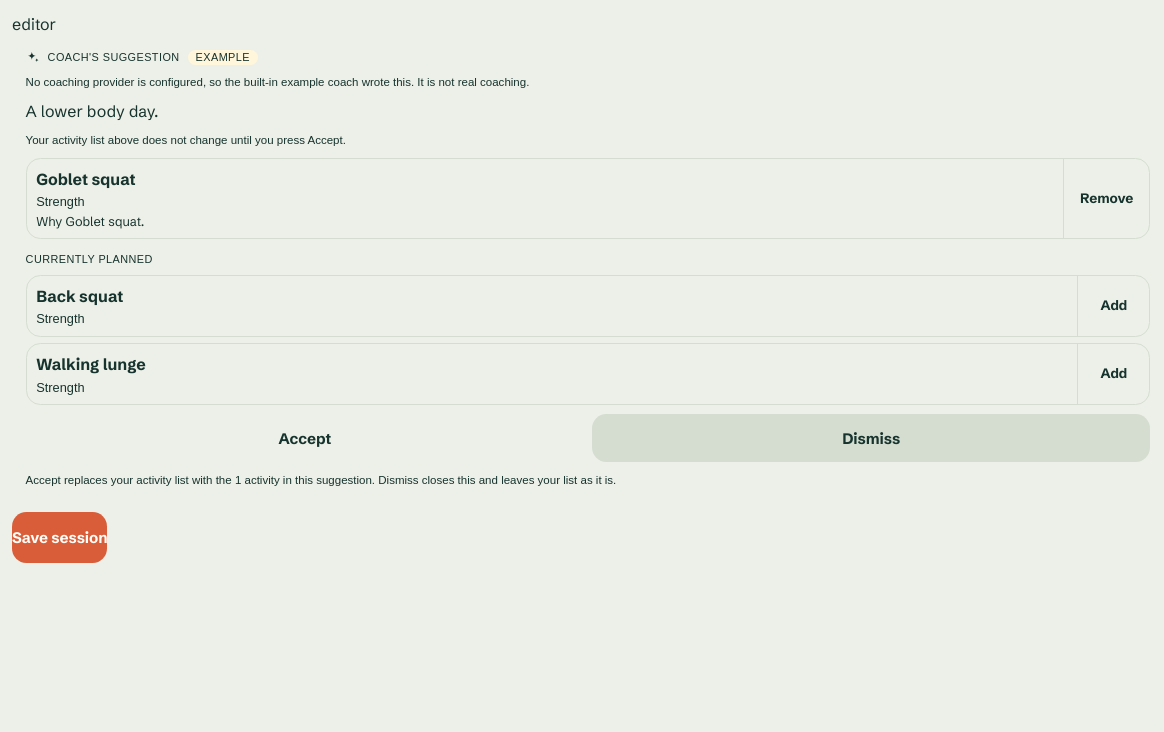
FillWithCoach › accepts an empty list when everything was removed
Click the button with aria-label "Remove Goblet squat": [1106, 198] box [1063,159,1149,238]
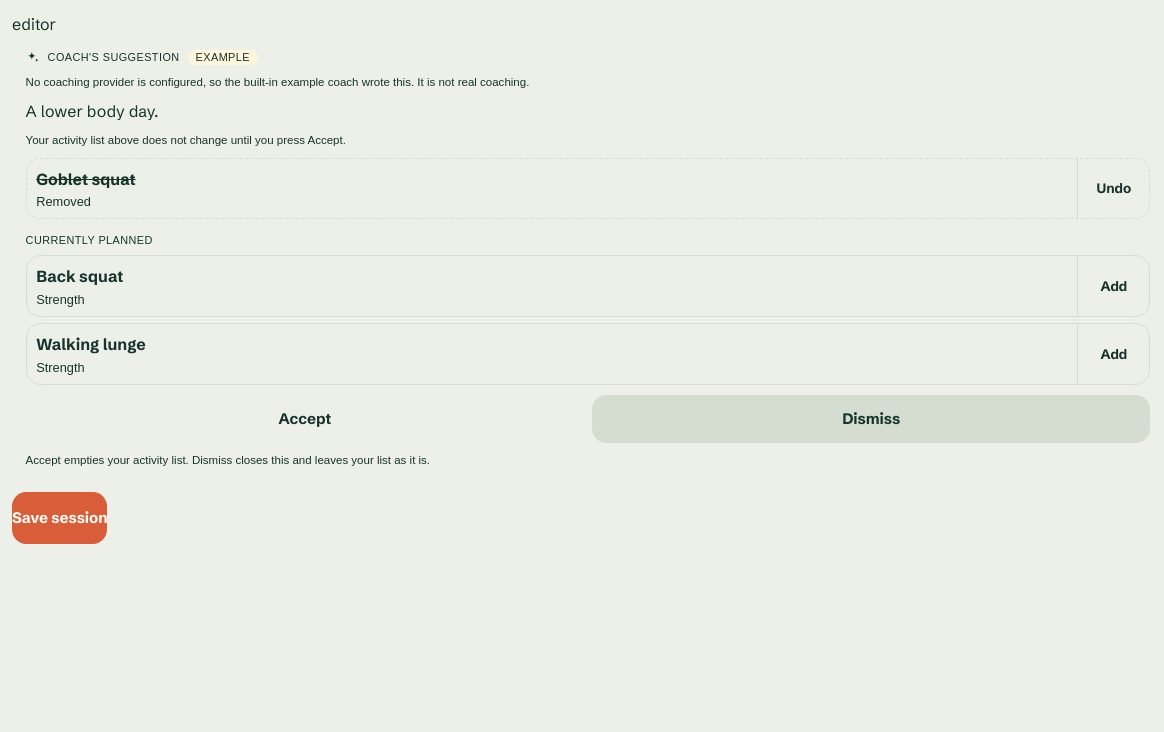
Expected: the text "Accept empties your activity list" is shown, [26,454,430,466]
Click the button "Accept": [305, 419] box [26,395,584,443]
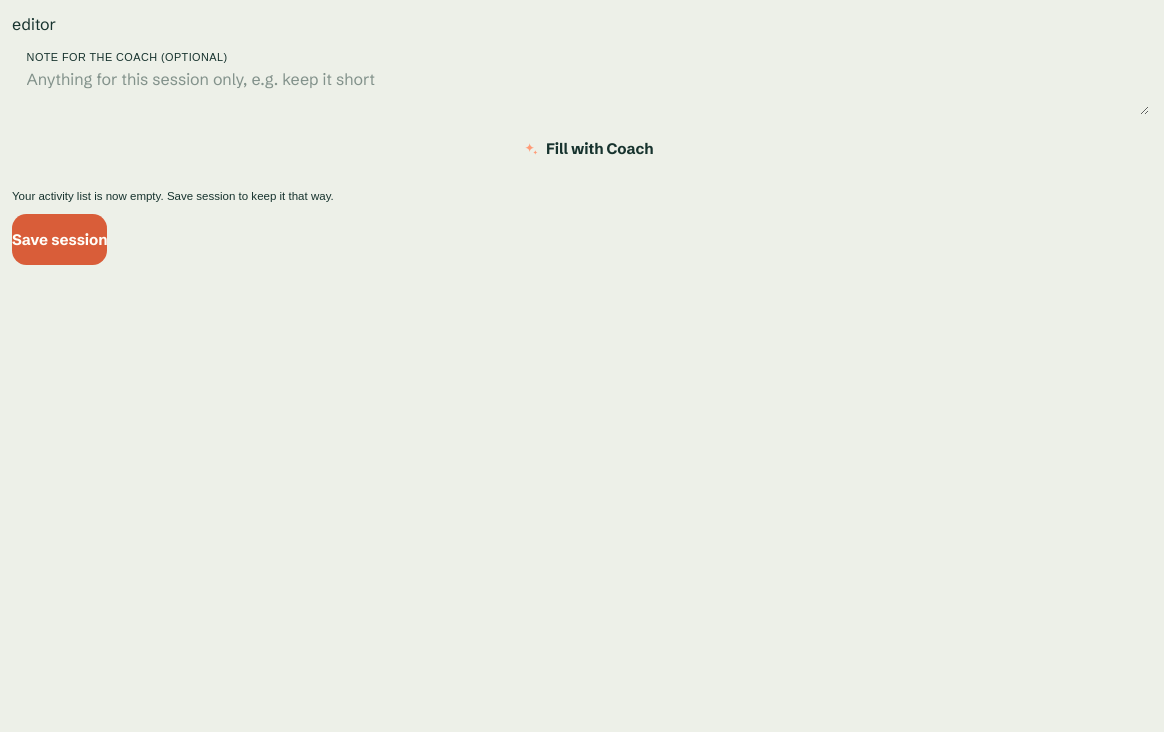
Expected: the message shows "now empty", [12,190,334,202]
